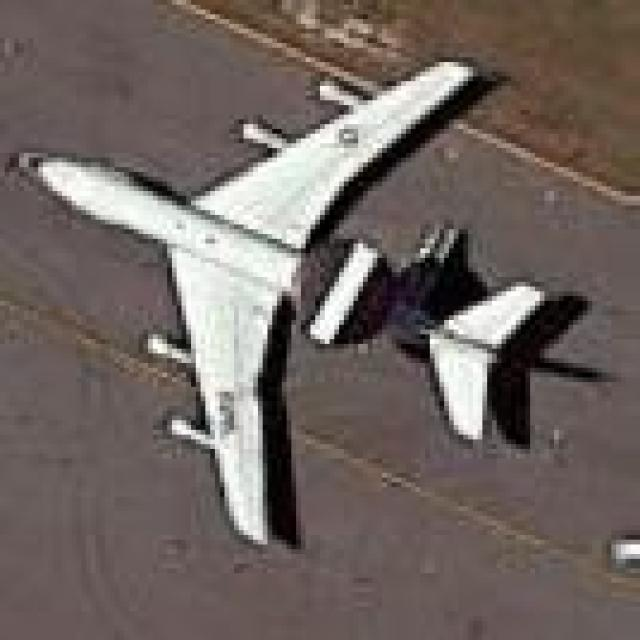E-3_TopDown: (0, 56, 621, 551)
